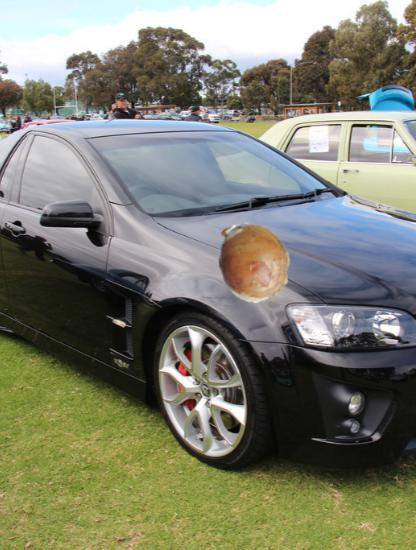Onion: (214, 222, 296, 304)
